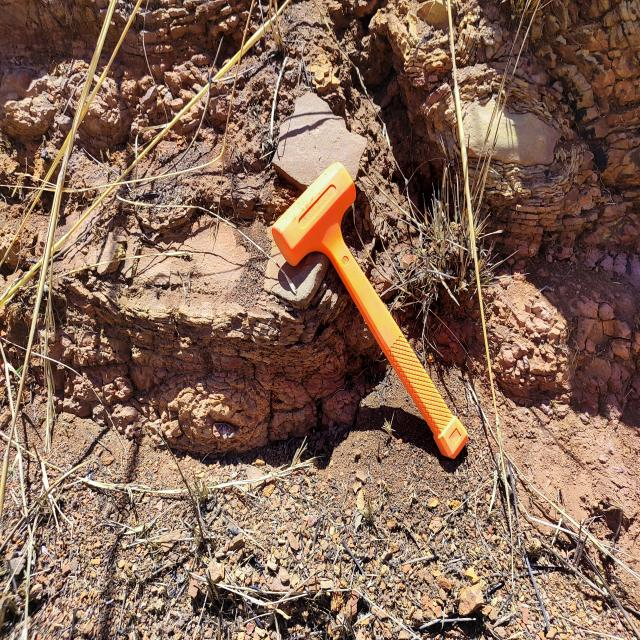Orange_hammer: (271, 162, 468, 462)
